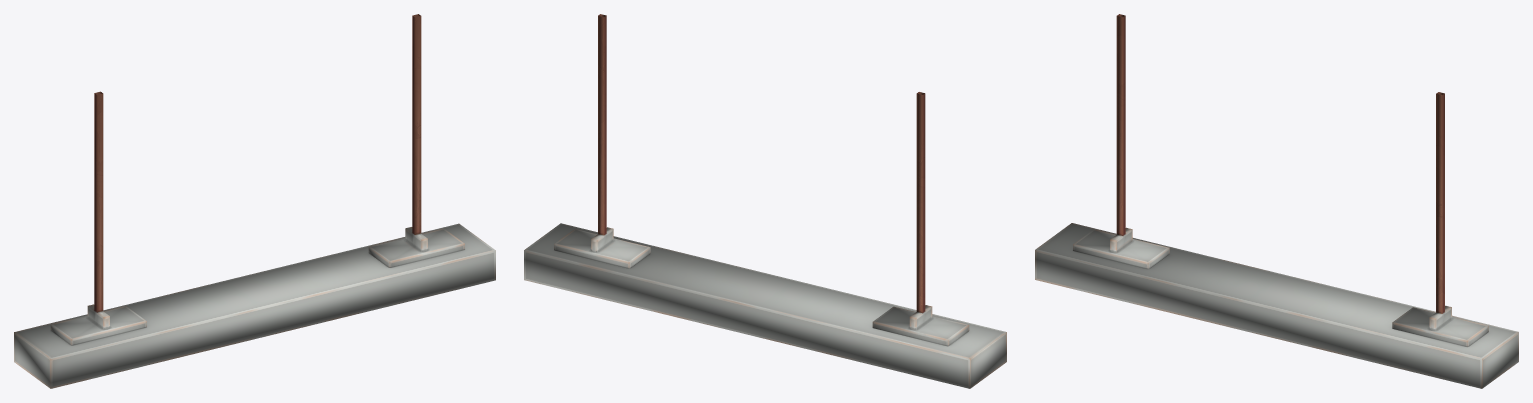
File: LuzLed.fbx
The picture shows the model from 3 angles, left to right: view 1: azimuth 30°, elevation 25°; view 2: azimuth 150°, elevation 25°; view 3: azimuth 330°, elevation 25°; orthographic projection.
Parts seen in each view (by area): view 1: LuzLed; view 2: LuzLed; view 3: LuzLed.
Part boxes in pixels (x1=…): LuzLed: x1=14, y1=14, x2=495, y2=388; LuzLed: x1=524, y1=14, x2=1006, y2=388; LuzLed: x1=1035, y1=14, x2=1518, y2=388.
Bounding box in the file's own units: 1.4 × 0.8167 × 0.2.
